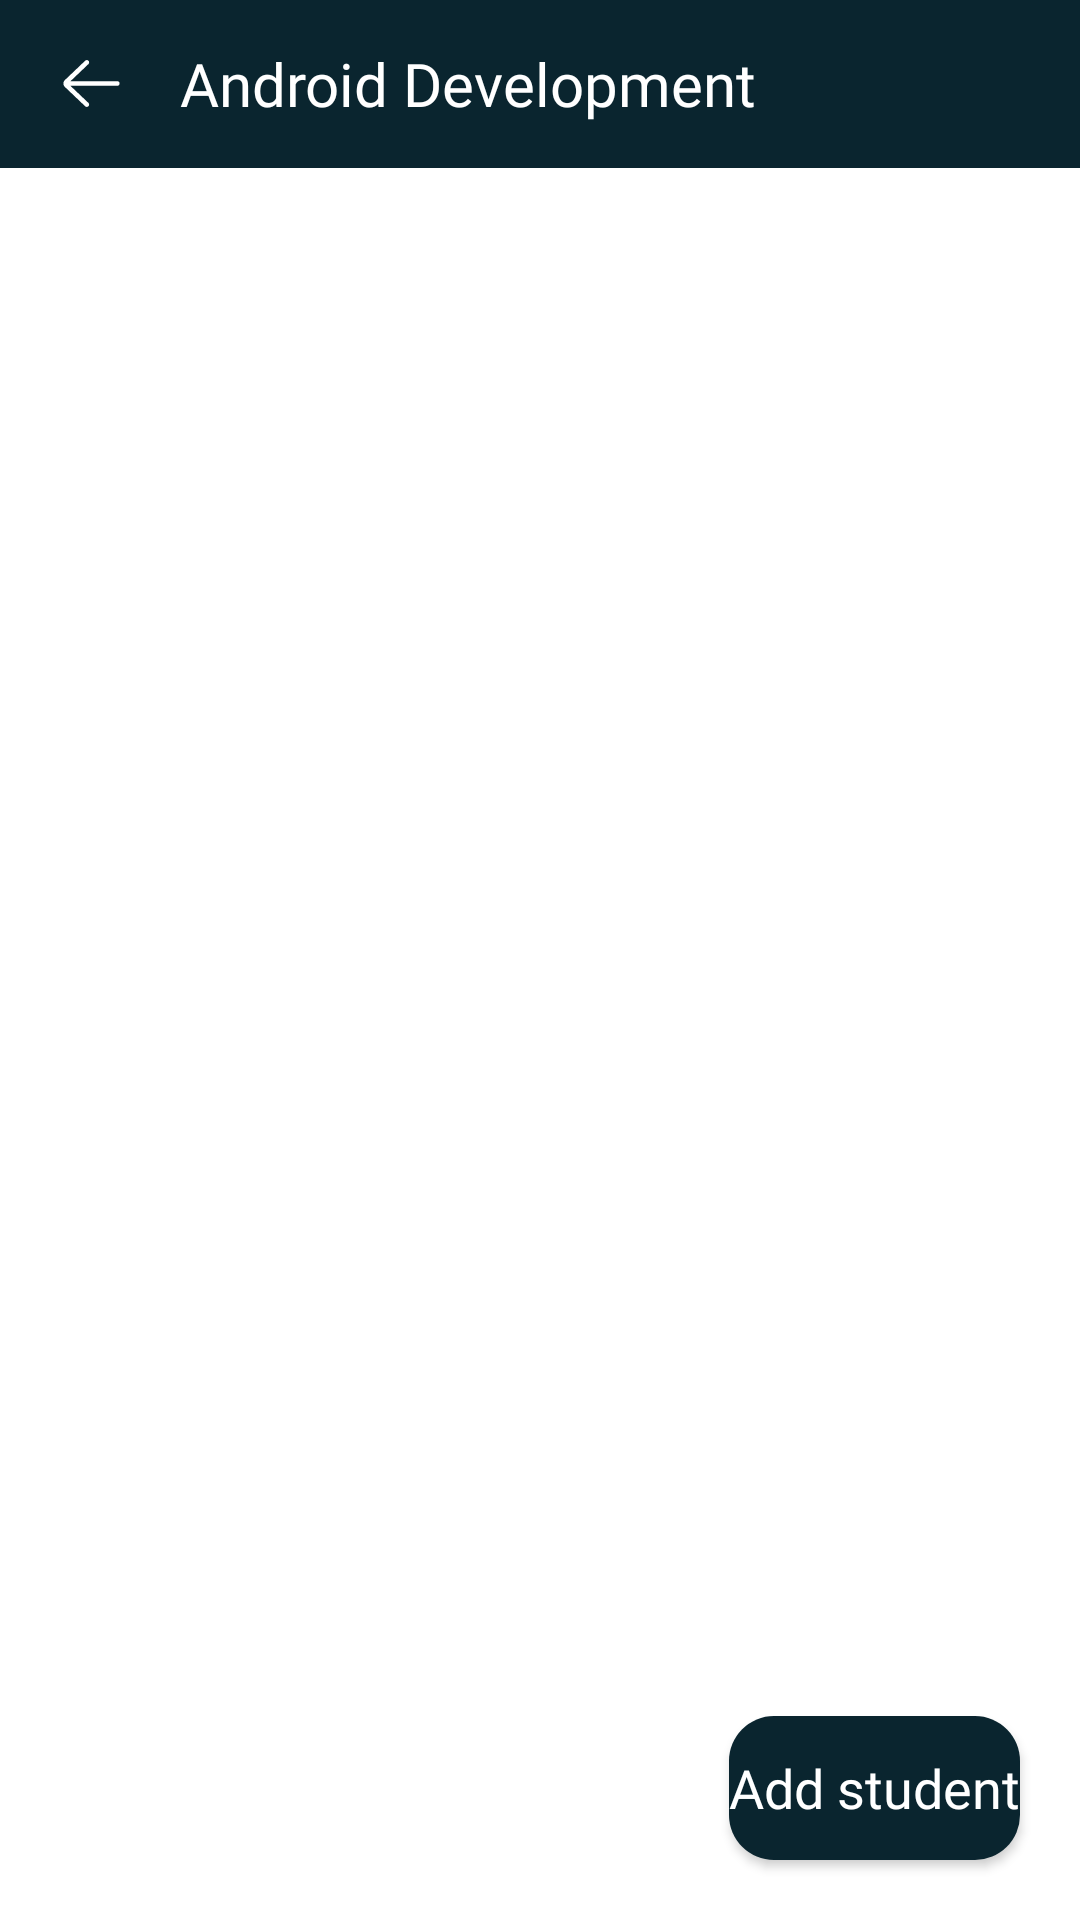

Where icons sit on this 1080px×1920px app screen, as (x1, y1, x2, y2):
back: (63, 60, 120, 107)
